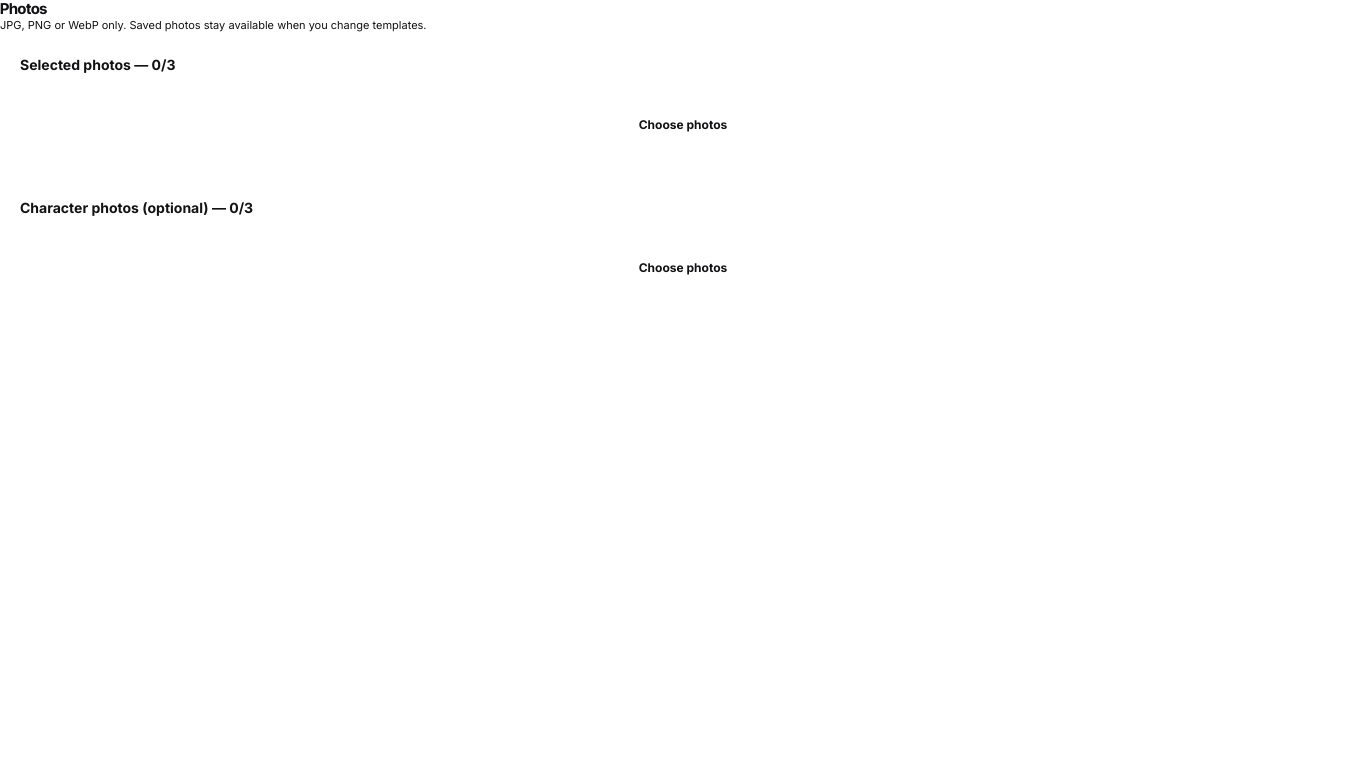
Test: library selection and local reconciliation › keeps library buttons inside supported product/presenter roles for product-with-model-ad
Click the button "Choose photos" below "Selected photos".
click(683, 125)  # box [14,101,1352,149]
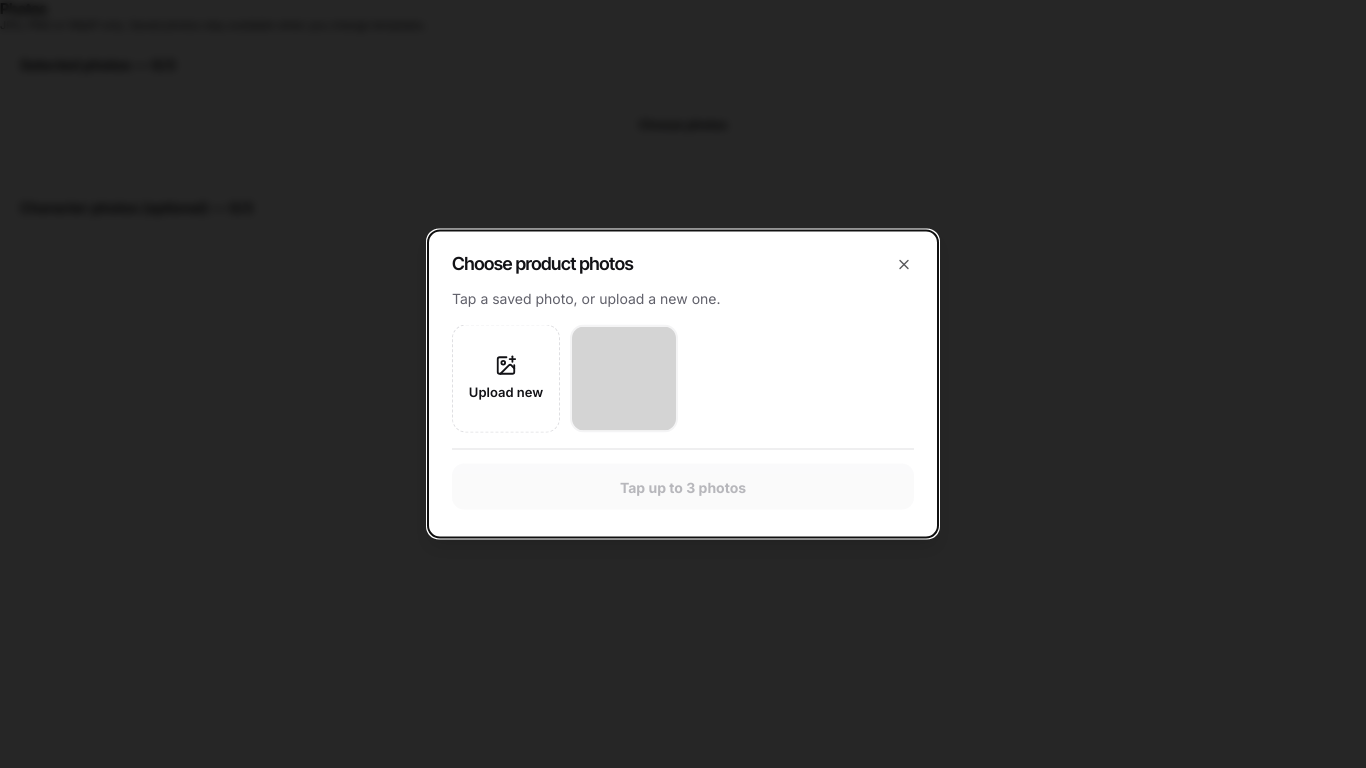
Check: the button "Upload new" is shown, box [452,324,560,432]
